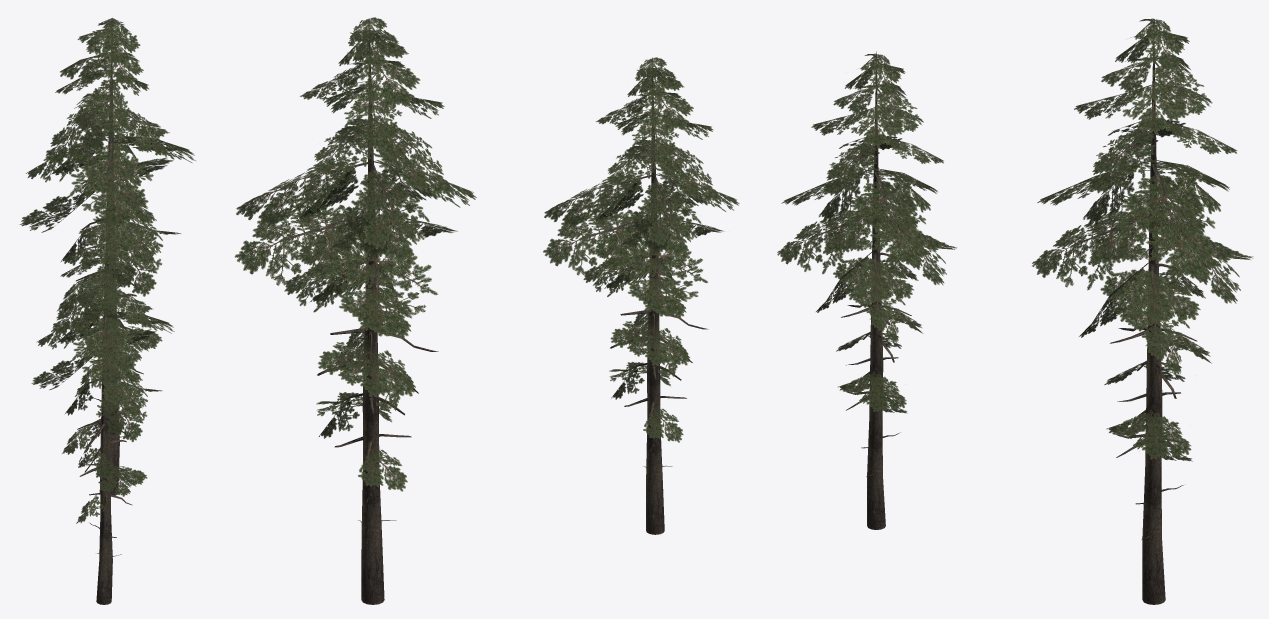
Rendered from trees.obj.
3 views of the same model, side by side, from view 1: azimuth 30°, elevation 25°; view 2: azimuth 150°, elevation 25°; view 3: azimuth 270°, elevation 25° (orthographic). The views are drawn at different scales.
Parts seen in each view (by area): view 1: Mesh1, Meshpart1; view 2: Mesh1, Meshpart1; view 3: Mesh1, Meshpart1.
Part boxes in pixels (bbox=[...]): Mesh1: bbox=[19, 18, 195, 523]; Meshpart1: bbox=[76, 49, 143, 604]; Mesh1: bbox=[235, 17, 739, 491]; Meshpart1: bbox=[317, 19, 708, 604]; Mesh1: bbox=[777, 18, 1253, 461]; Meshpart1: bbox=[841, 39, 1197, 604].
Size of the model in its own units: 60.86 by 101 by 75.32.
2 materials, 2 textured.
